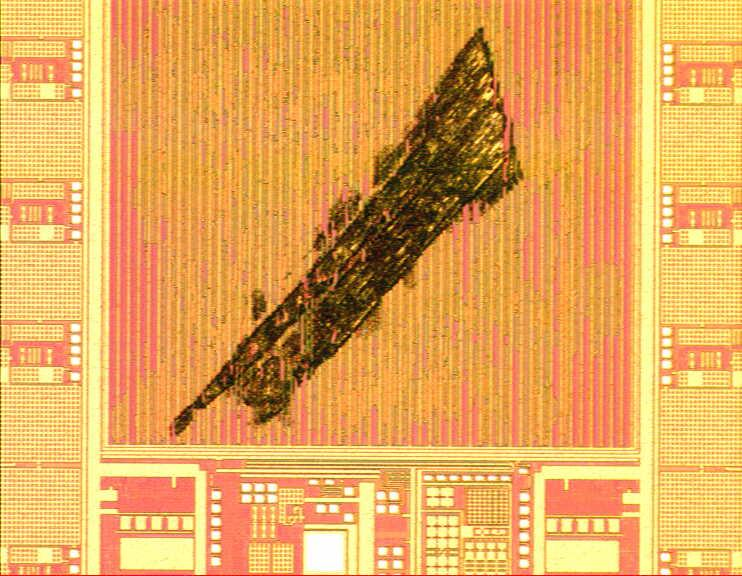SCRATCH: (165, 24, 527, 442)
